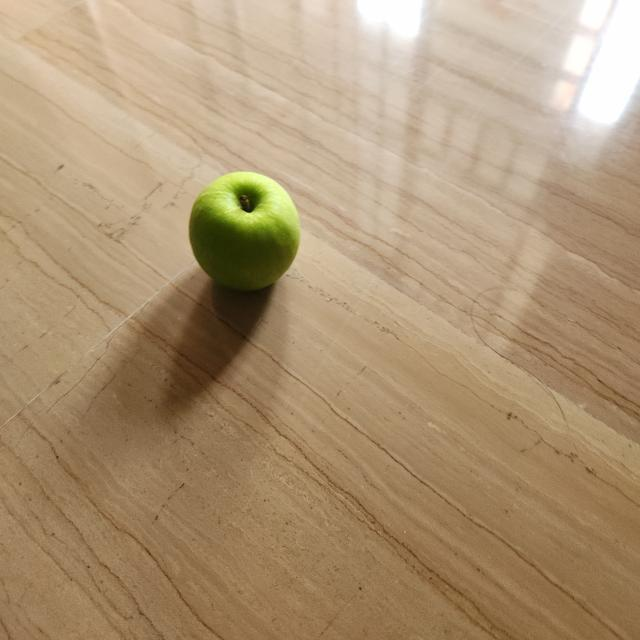apple: (184, 164, 308, 308)
